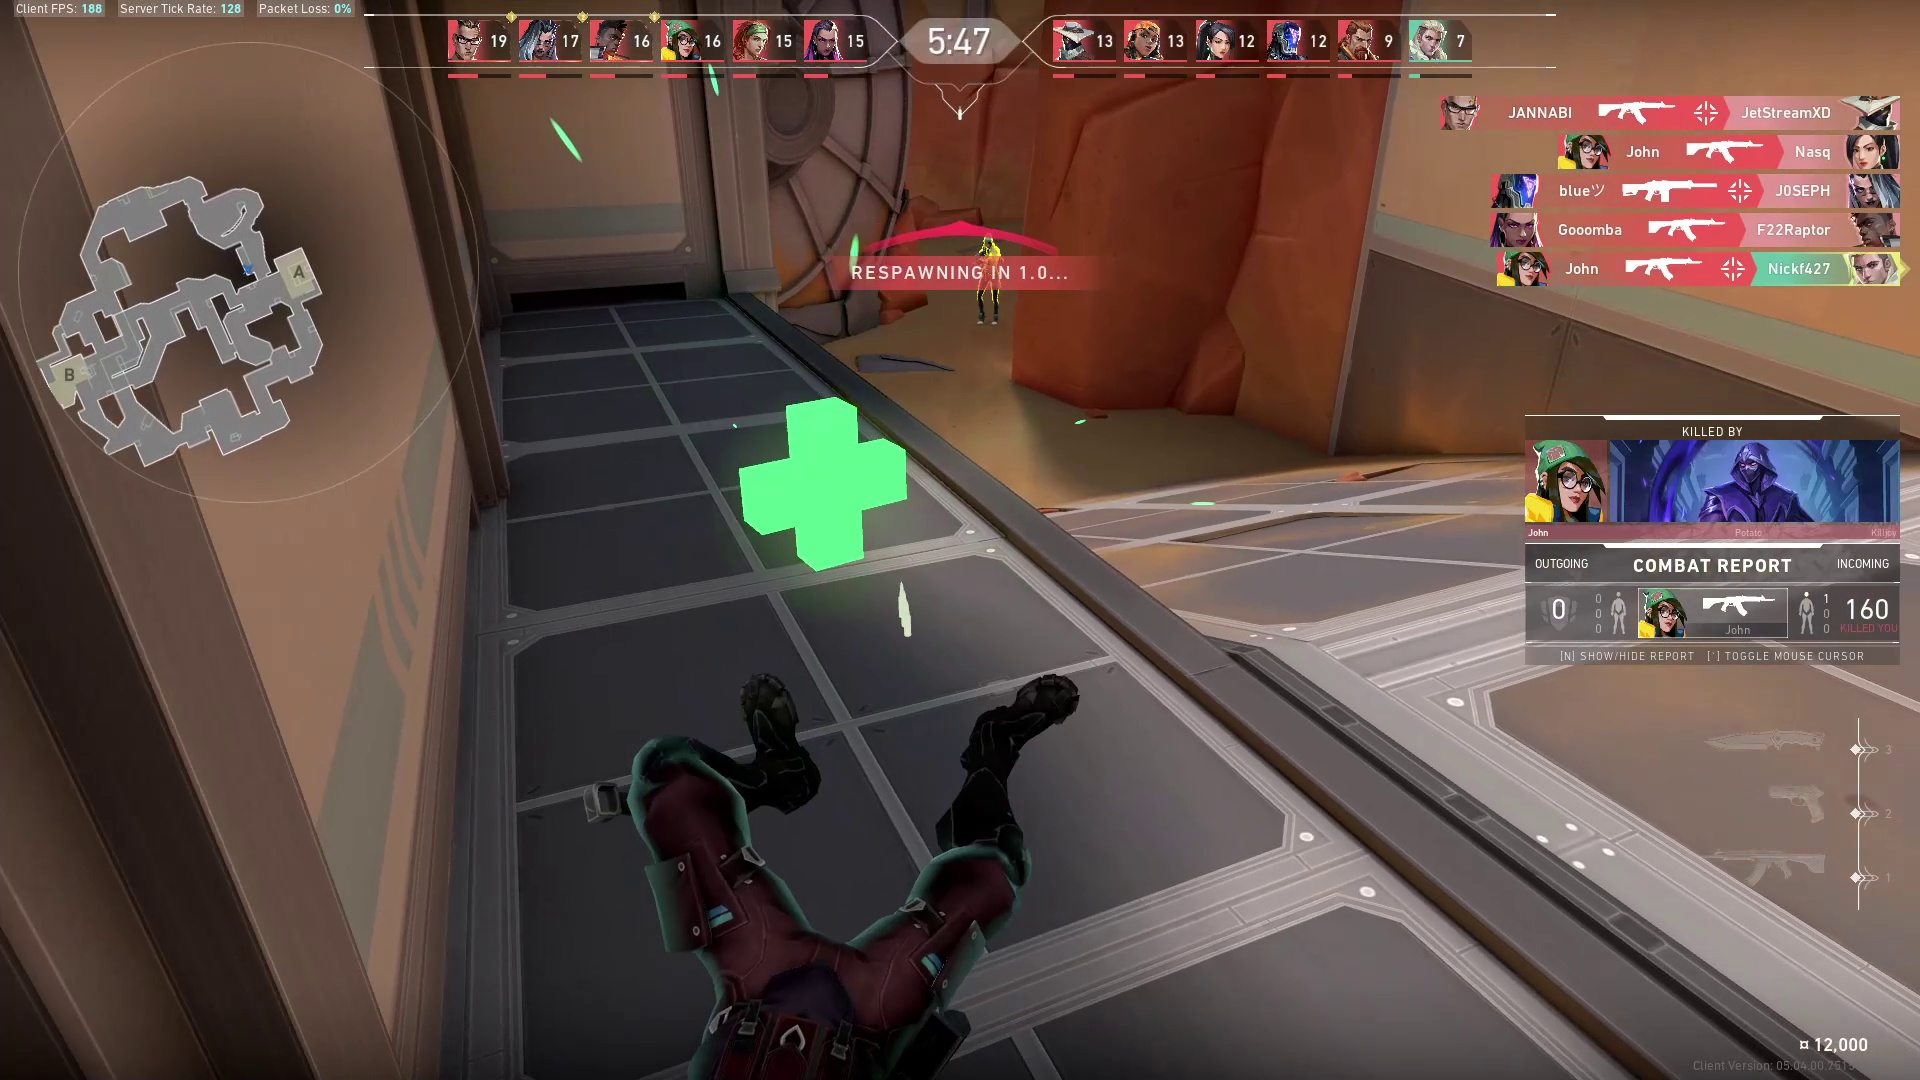enemy_gen: (973, 229, 1004, 330)
